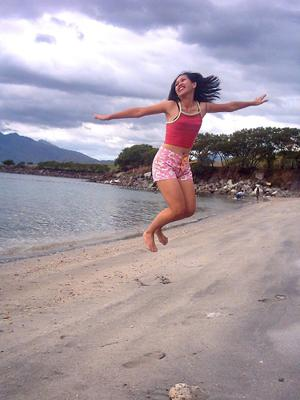person: (94, 69, 267, 257)
